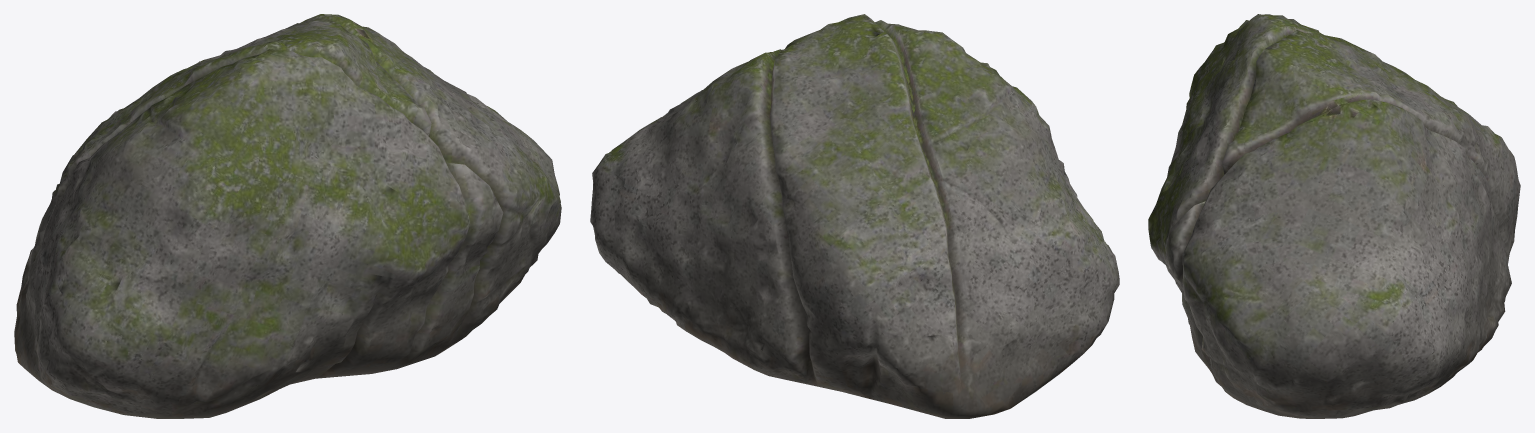
File: kamen_zula_2.glb
3 views of the same model, side by side, from view 1: azimuth 30°, elevation 25°; view 2: azimuth 150°, elevation 25°; view 3: azimuth 270°, elevation 25° (orthographic). The views are drawn at different scales.
Visible parts, largest first — view 1: kamen_zula_2; view 2: kamen_zula_2; view 3: kamen_zula_2.
Part boxes in pixels (<box>): kamen_zula_2: <box>14,14,561,418</box>; kamen_zula_2: <box>590,14,1119,418</box>; kamen_zula_2: <box>1148,14,1520,418</box>.
Bounding box in the file's own units: 0.6318 × 0.3881 × 0.4143.
Materials: 1 (1 with a texture image).
